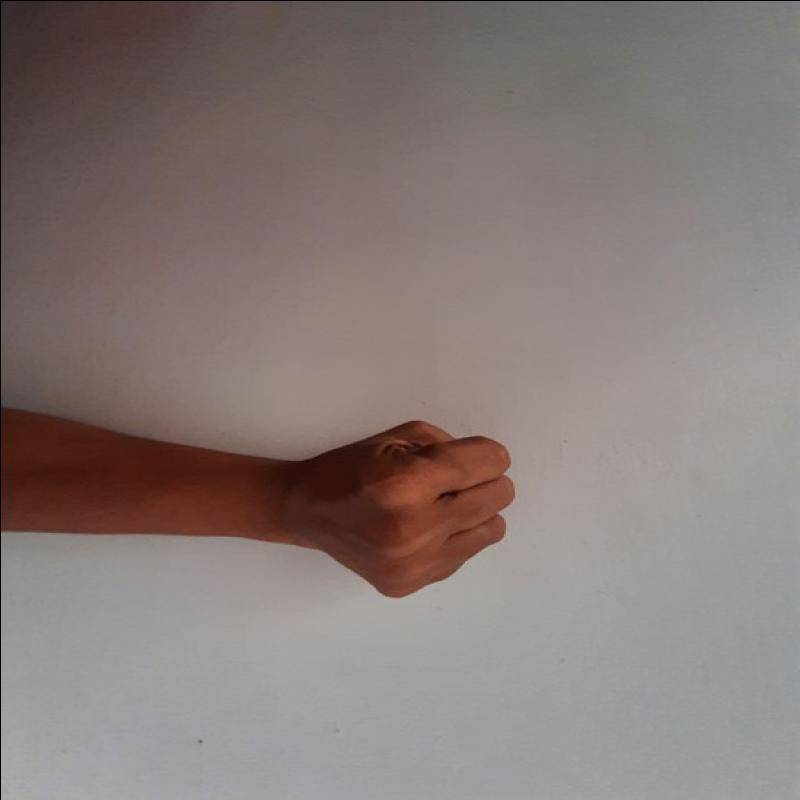Mushti: (312, 410, 527, 608)
